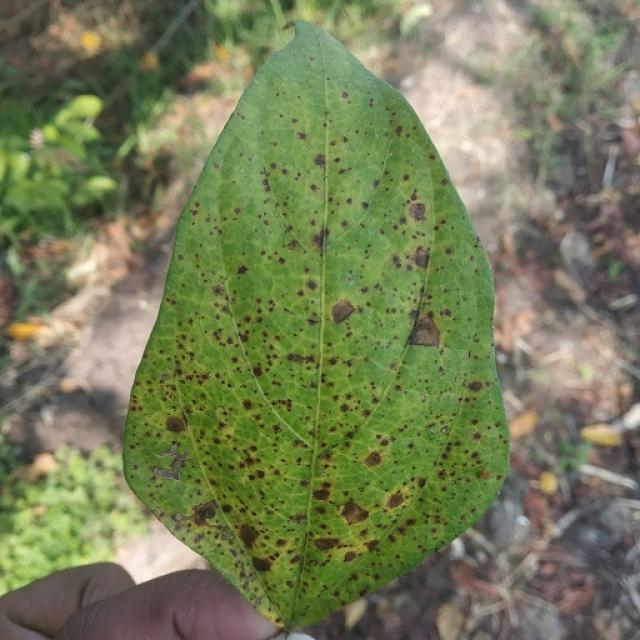Anthracnose: (151, 442, 190, 482), (406, 313, 442, 348), (324, 298, 358, 324), (340, 500, 369, 525), (238, 523, 260, 549), (311, 228, 330, 252), (312, 536, 342, 551), (80, 30, 101, 50), (411, 246, 430, 268), (285, 352, 315, 365), (407, 201, 426, 221), (165, 415, 186, 433), (250, 555, 272, 572), (385, 492, 404, 510), (363, 451, 383, 468), (312, 486, 331, 502), (477, 467, 496, 480), (466, 380, 485, 392), (281, 20, 297, 33), (250, 362, 263, 377), (313, 153, 326, 167), (203, 506, 216, 520), (212, 284, 225, 297), (286, 239, 300, 251), (343, 551, 357, 563), (236, 264, 249, 275), (306, 279, 317, 291), (346, 272, 356, 285), (242, 399, 253, 410), (394, 125, 404, 136), (262, 178, 271, 190), (296, 131, 307, 140), (233, 206, 242, 215), (440, 426, 449, 434), (341, 91, 349, 99), (176, 254, 184, 261)
Blackgram: (124, 22, 508, 625)
